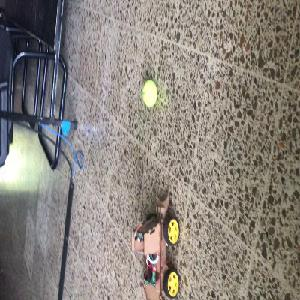Ball: (142, 80, 158, 106)
Robot: (132, 191, 179, 298)
